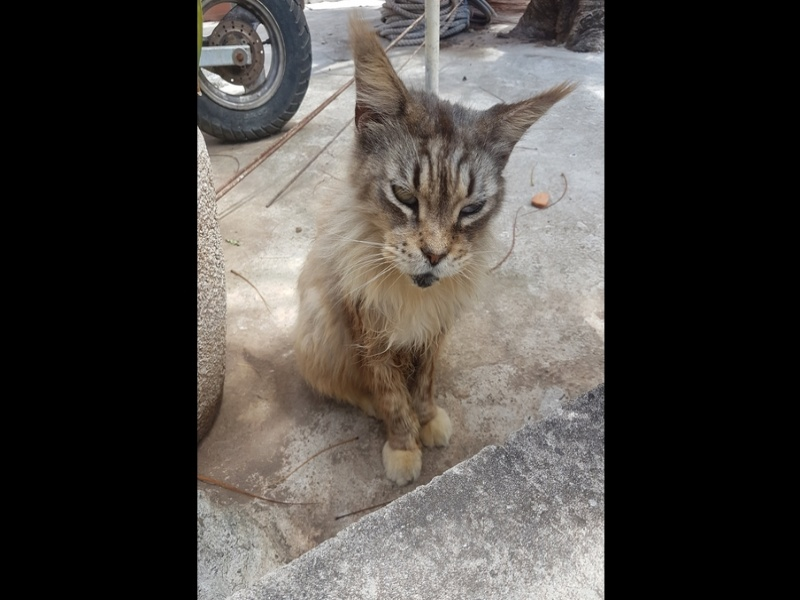cat: (279, 14, 582, 493)
